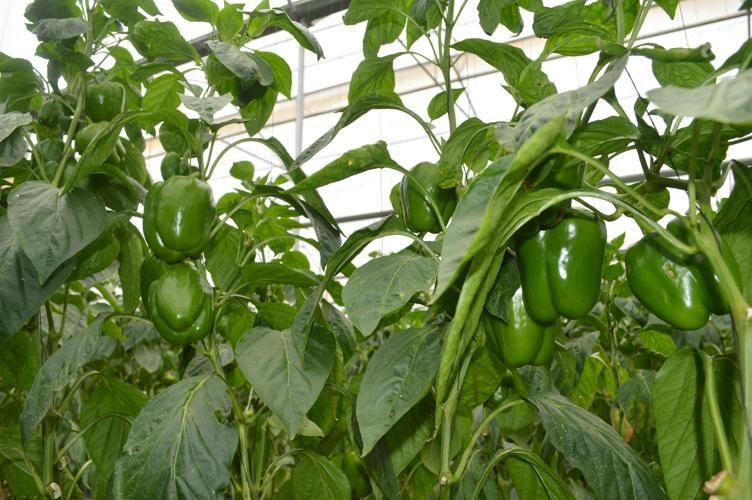BellPepper: (622, 215, 744, 332), (506, 208, 604, 322), (139, 177, 211, 263), (485, 283, 549, 367), (148, 267, 209, 344), (395, 159, 454, 235), (79, 121, 125, 177), (86, 83, 126, 119)
